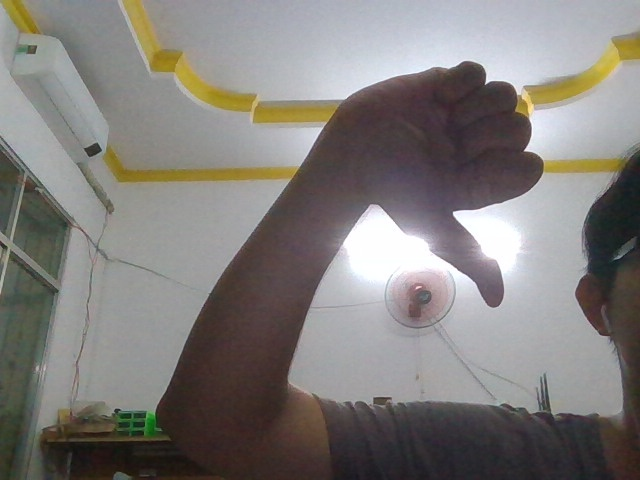thumb_down: (314, 47, 552, 324)
